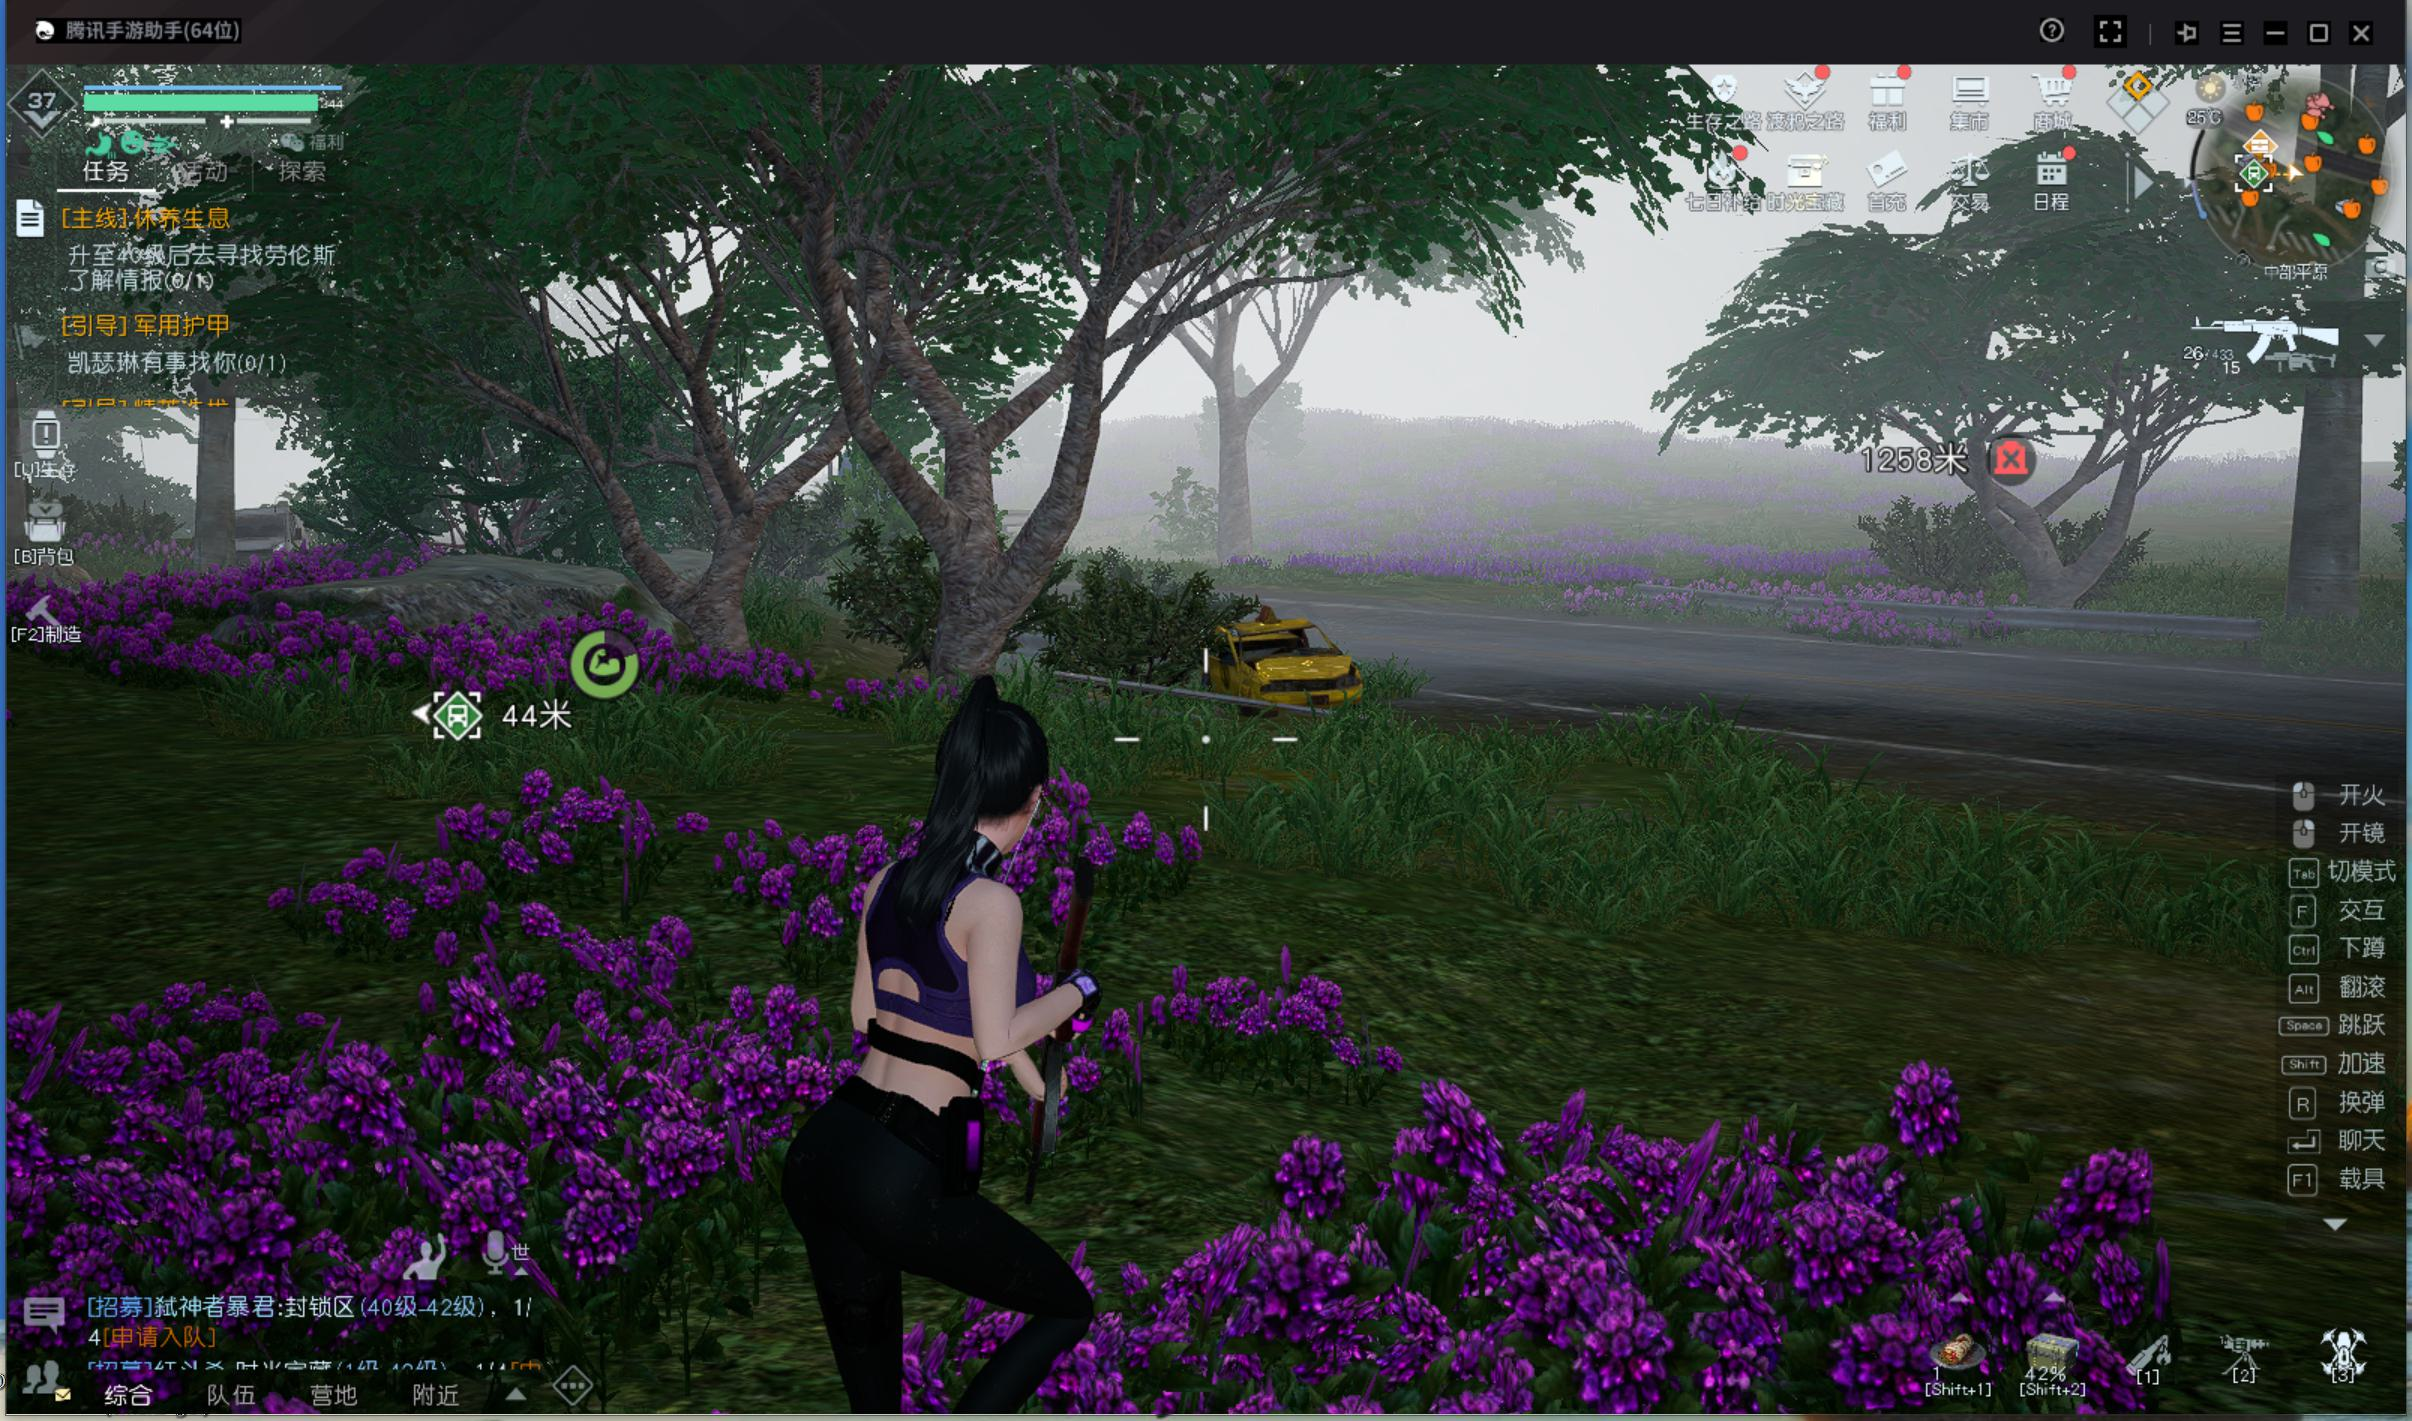tree: (2275, 425, 2371, 633), (903, 557, 1033, 667), (1203, 420, 1265, 570)
